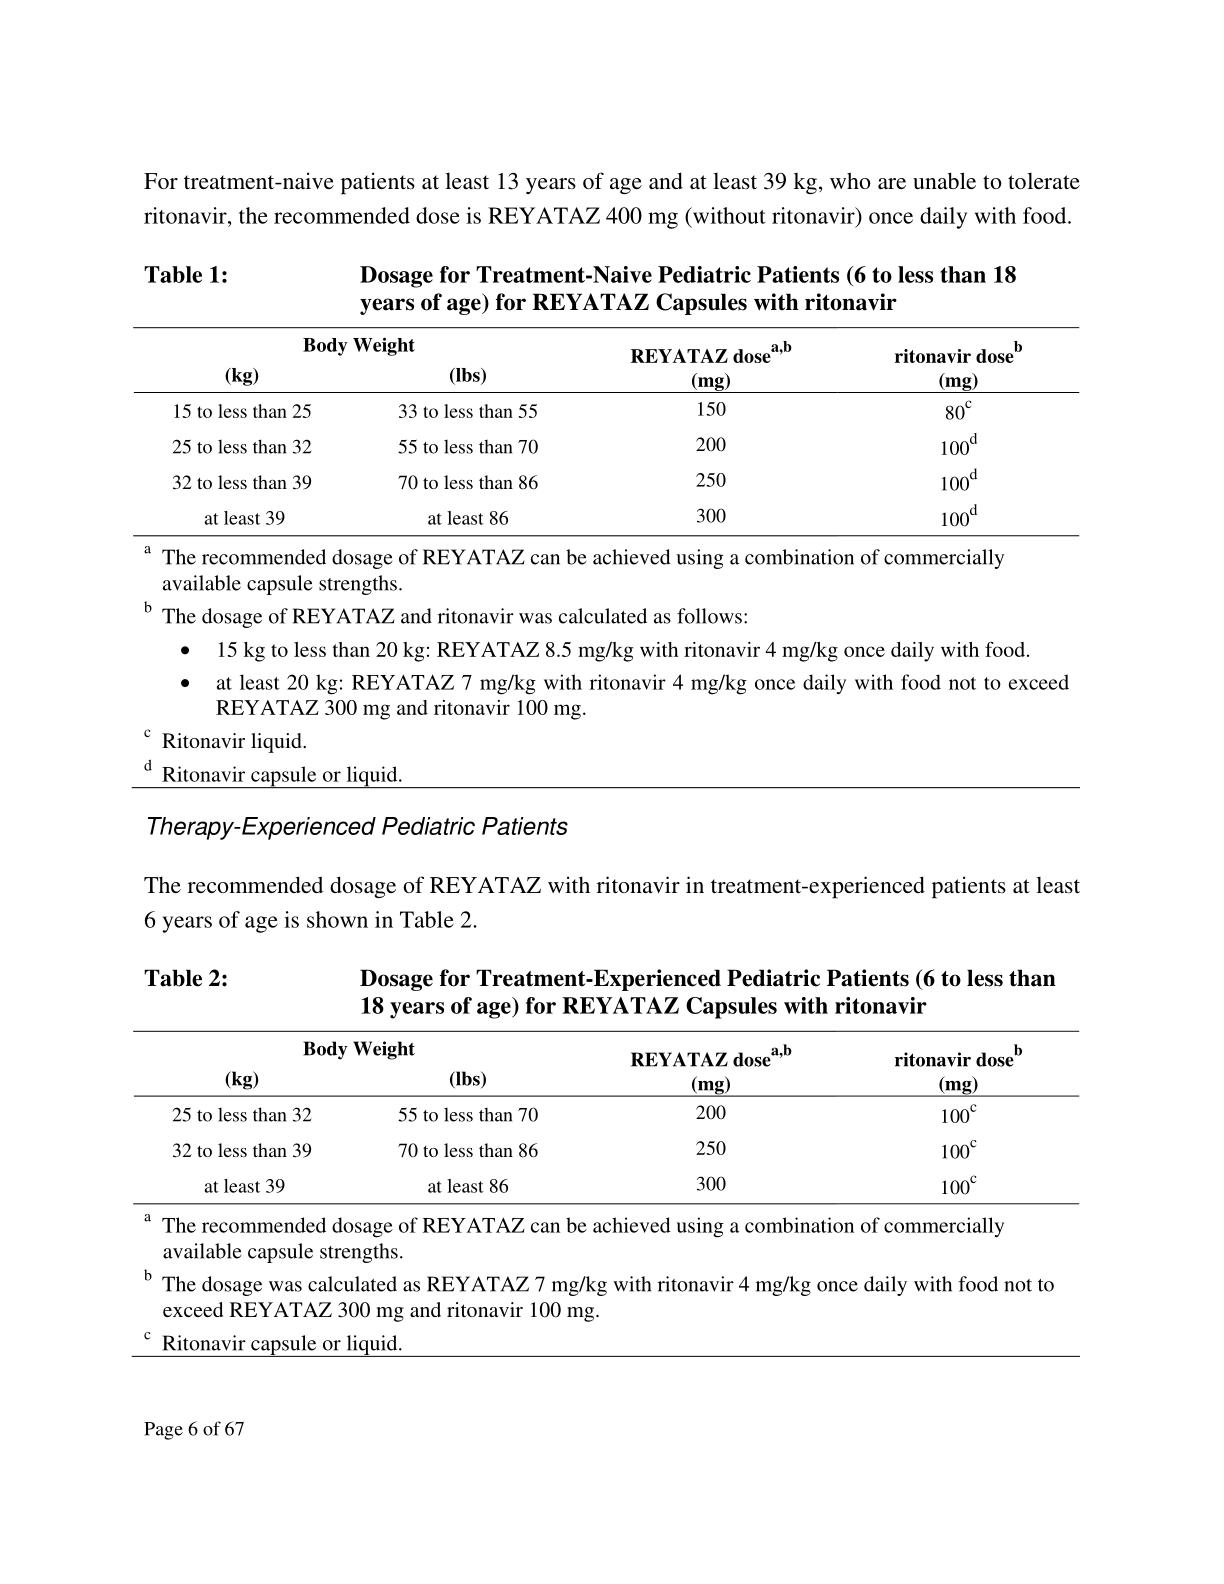partial_lined_merged_cells: (130, 324, 1081, 536), (130, 1029, 1084, 1206)
